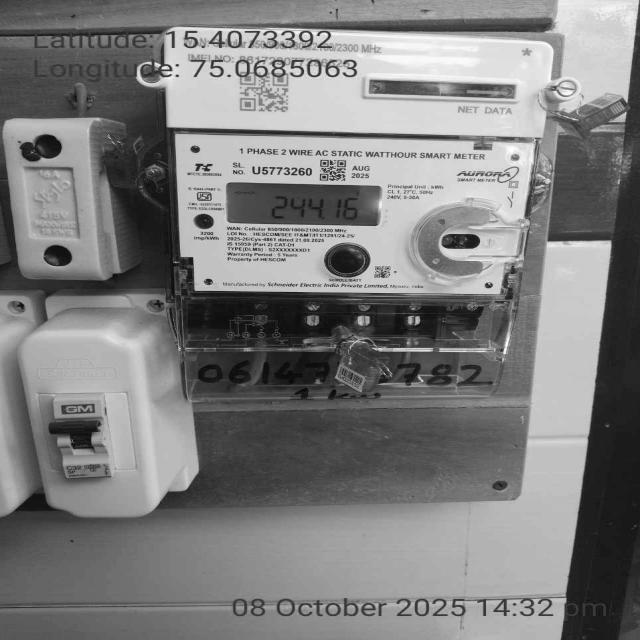meter: (170, 28, 551, 295)
